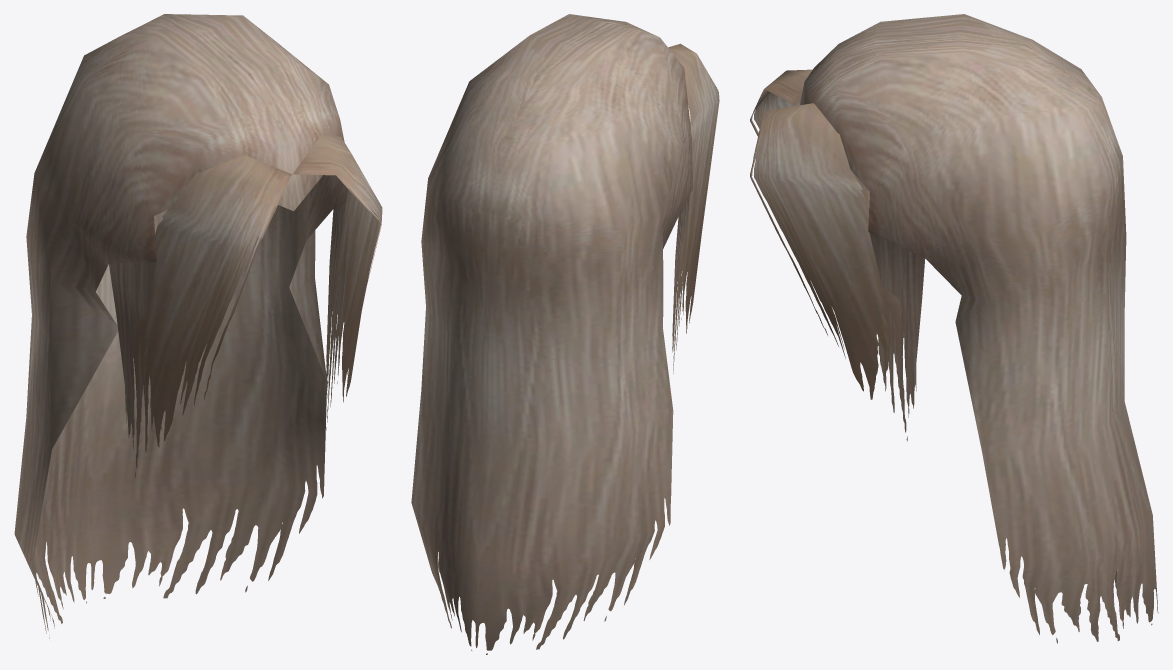
The picture shows the model from 3 angles, left to right: view 1: azimuth 30°, elevation 25°; view 2: azimuth 150°, elevation 25°; view 3: azimuth 270°, elevation 25°; orthographic projection. The views are drawn at different scales.
Parts seen in each view (by area): view 1: chinawoman_Bogy_hair01; view 2: chinawoman_Bogy_hair01; view 3: chinawoman_Bogy_hair01.
Part boxes in pixels (x1,y1,x2,y2): chinawoman_Bogy_hair01: [14, 14, 382, 638]; chinawoman_Bogy_hair01: [411, 14, 719, 654]; chinawoman_Bogy_hair01: [750, 14, 1158, 643].
Size of the model in its own units: 0.1757 by 0.3751 by 0.237.
Materials: 1 (1 with a texture image).
